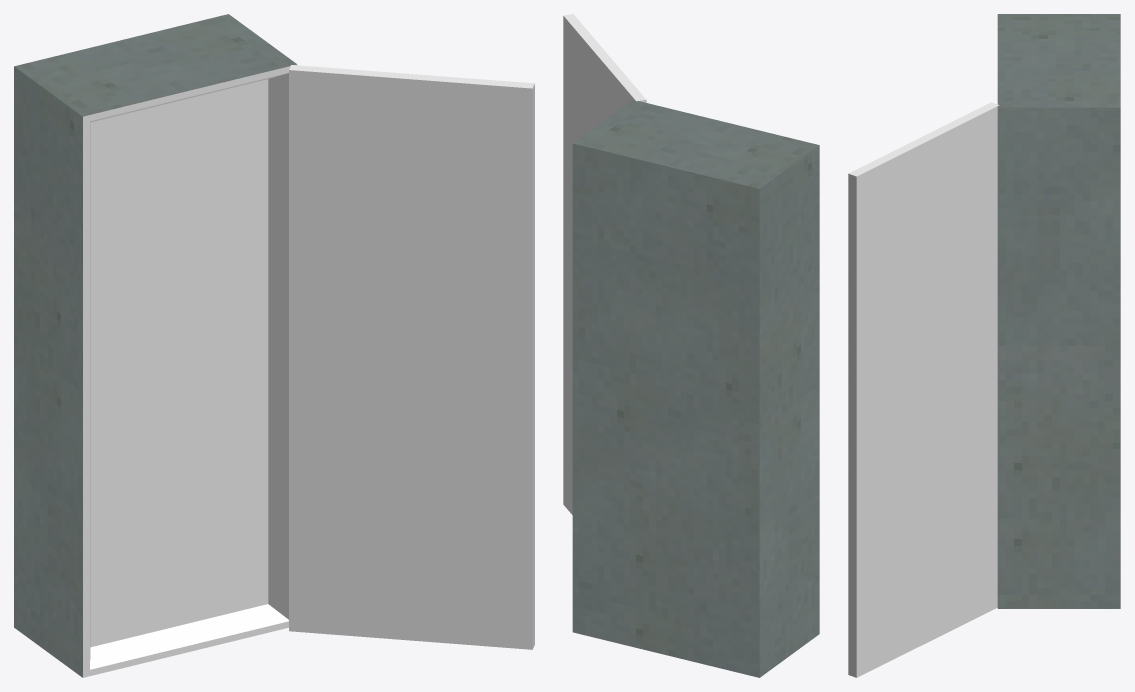
Rendered from panel_electrical_open.glb.
3 views of the same model, side by side, from view 1: azimuth 30°, elevation 25°; view 2: azimuth 150°, elevation 25°; view 3: azimuth 270°, elevation 25° (orthographic). The views are drawn at different scales.
Parts seen in each view (by area): view 1: Electrical_Panel_Door, Electrical_Panel_Inside, Electrical_Panel; view 2: Electrical_Panel, Electrical_Panel_Door; view 3: Electrical_Panel_Door, Electrical_Panel.
Part boxes in pixels (box(x1,y1,x2,y2)): Electrical_Panel_Door: box(289, 65, 534, 649); Electrical_Panel_Inside: box(83, 64, 297, 677); Electrical_Panel: box(14, 14, 296, 677); Electrical_Panel: box(572, 99, 819, 677); Electrical_Panel_Door: box(563, 14, 646, 514); Electrical_Panel_Door: box(848, 102, 999, 677); Electrical_Panel: box(997, 14, 1120, 608).
Size of the model in its own units: 0.318 by 0.4572 by 0.2251.
4 materials, 1 textured.
